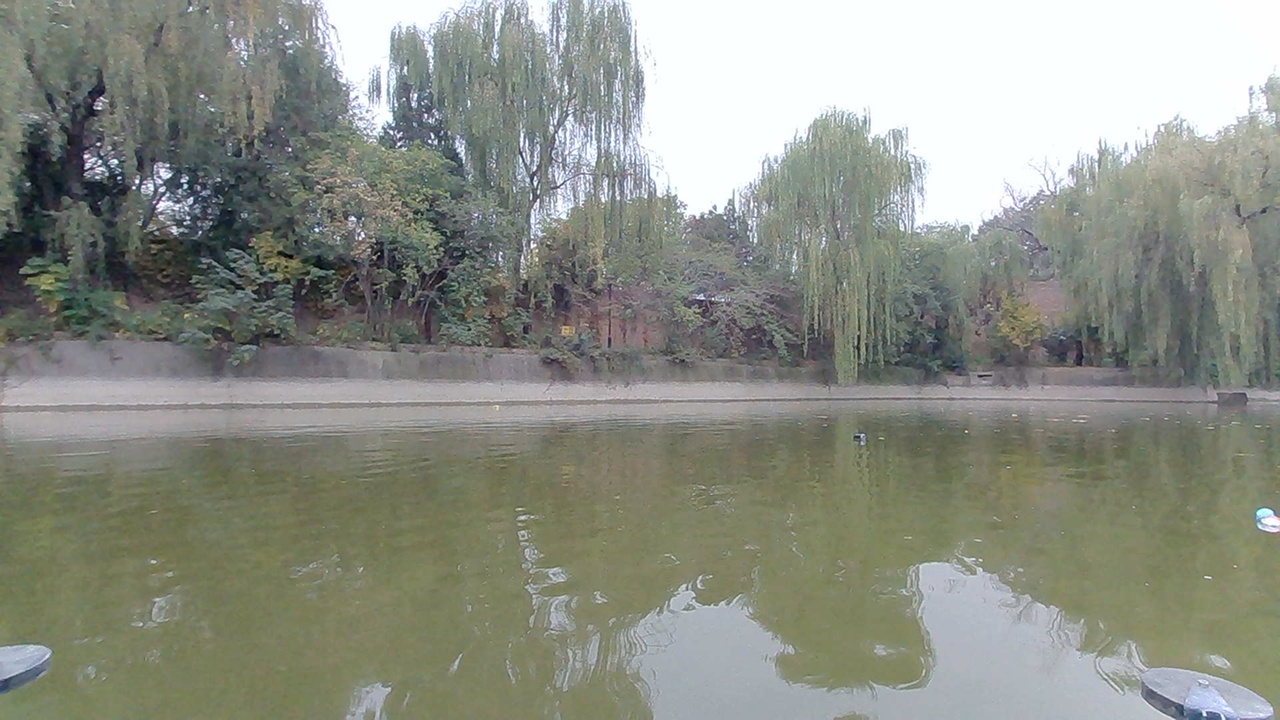bottle: (1251, 503, 1280, 546), (842, 420, 870, 446)
